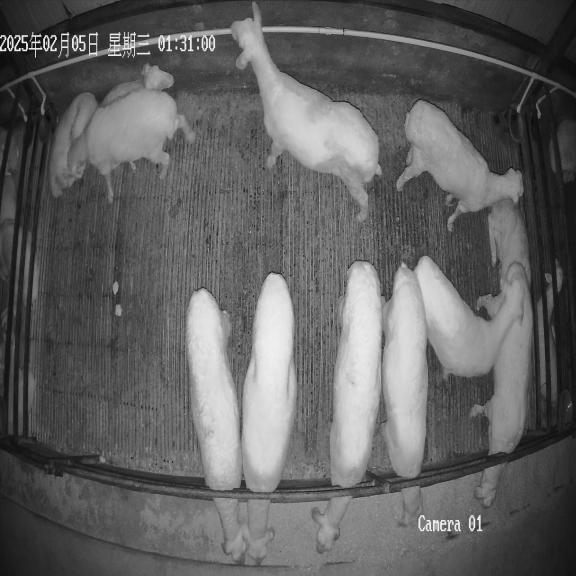eating: (311, 261, 382, 553), (186, 288, 249, 562), (241, 273, 297, 565), (470, 262, 533, 508), (380, 263, 428, 526)
lying: (48, 92, 98, 197), (488, 199, 531, 285), (102, 63, 173, 105)
stand: (231, 2, 382, 221), (396, 100, 523, 231), (68, 88, 194, 202), (414, 256, 522, 377)
